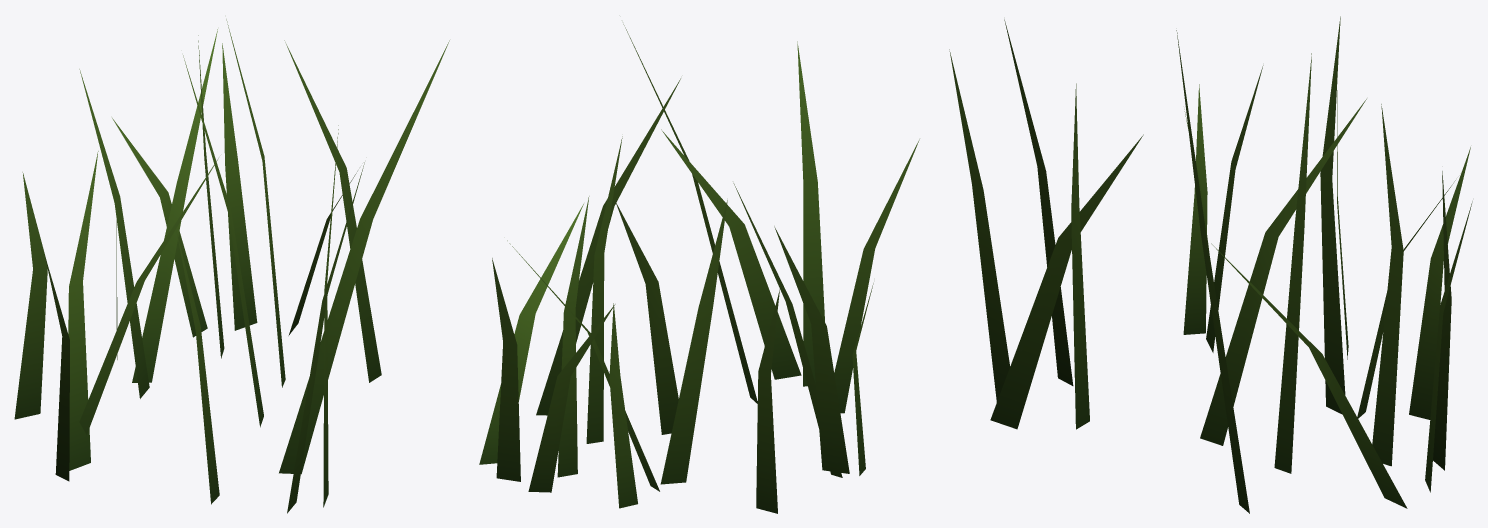
The model's file is tuft_2_lod1.glb.
The picture shows the model from 3 angles, left to right: view 1: azimuth 30°, elevation 25°; view 2: azimuth 150°, elevation 25°; view 3: azimuth 270°, elevation 25°; orthographic projection. The views are drawn at different scales.
Parts seen in each view (by area): view 1: GrassTuft_2_LOD1; view 2: GrassTuft_2_LOD1; view 3: GrassTuft_2_LOD1.
Boxes of the visible parts, left/top/right/bottom form: GrassTuft_2_LOD1: left=14, top=19, right=449, bottom=513; GrassTuft_2_LOD1: left=479, top=24, right=919, bottom=513; GrassTuft_2_LOD1: left=949, top=16, right=1472, bottom=513.
Size of the model in its own units: 0.2673 by 0.2821 by 0.3148.
